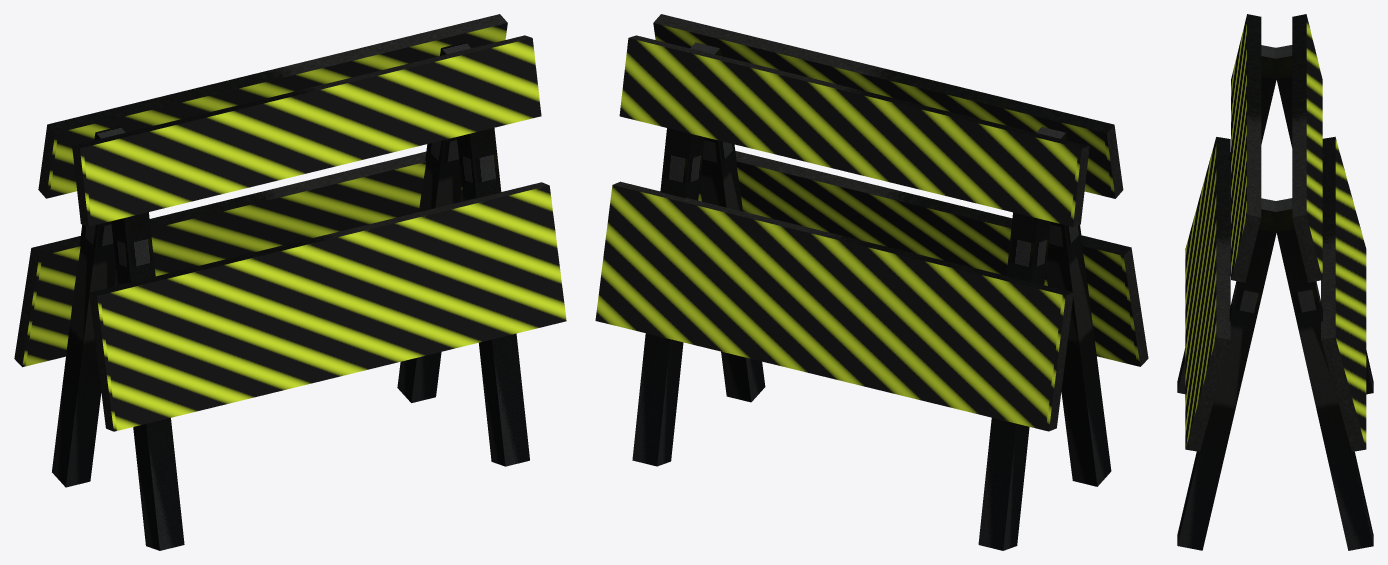
The model's file is yellowBlackWood.fbx.
The picture shows the model from 3 angles, left to right: view 1: azimuth 30°, elevation 25°; view 2: azimuth 150°, elevation 25°; view 3: azimuth 270°, elevation 25°; orthographic projection. The views are drawn at different scales.
Parts seen in each view (by area): view 1: YellowBlackWood_001; view 2: YellowBlackWood_001; view 3: YellowBlackWood_001.
Boxes of the visible parts, x1,y1,x2,y2 form: YellowBlackWood_001: (14,14,566,550); YellowBlackWood_001: (595,14,1148,550); YellowBlackWood_001: (1177,14,1373,550).
Size of the model in its own units: 0.7361 by 0.606 by 0.3044.
